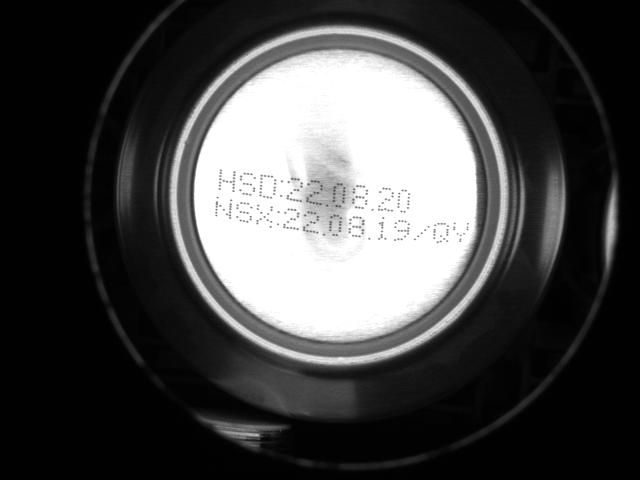.: (369, 196, 376, 213), (366, 227, 373, 241), (324, 192, 330, 208), (320, 226, 327, 238)
/: (411, 221, 431, 247)
0: (330, 180, 348, 210), (396, 187, 412, 215), (328, 212, 343, 239)
1: (376, 214, 389, 242)
2: (285, 174, 304, 205), (305, 178, 324, 208), (376, 185, 395, 213), (281, 206, 301, 231), (301, 210, 319, 235)
8: (347, 213, 366, 242), (350, 183, 369, 210)
9: (392, 218, 412, 245)
:: (278, 177, 284, 200)
D: (257, 173, 277, 201)
H: (217, 166, 236, 195)
N: (213, 195, 233, 222)
Q: (430, 219, 450, 245)
S: (238, 169, 256, 197), (235, 198, 253, 226)
X: (255, 202, 273, 230)
Y: (451, 220, 470, 246)
